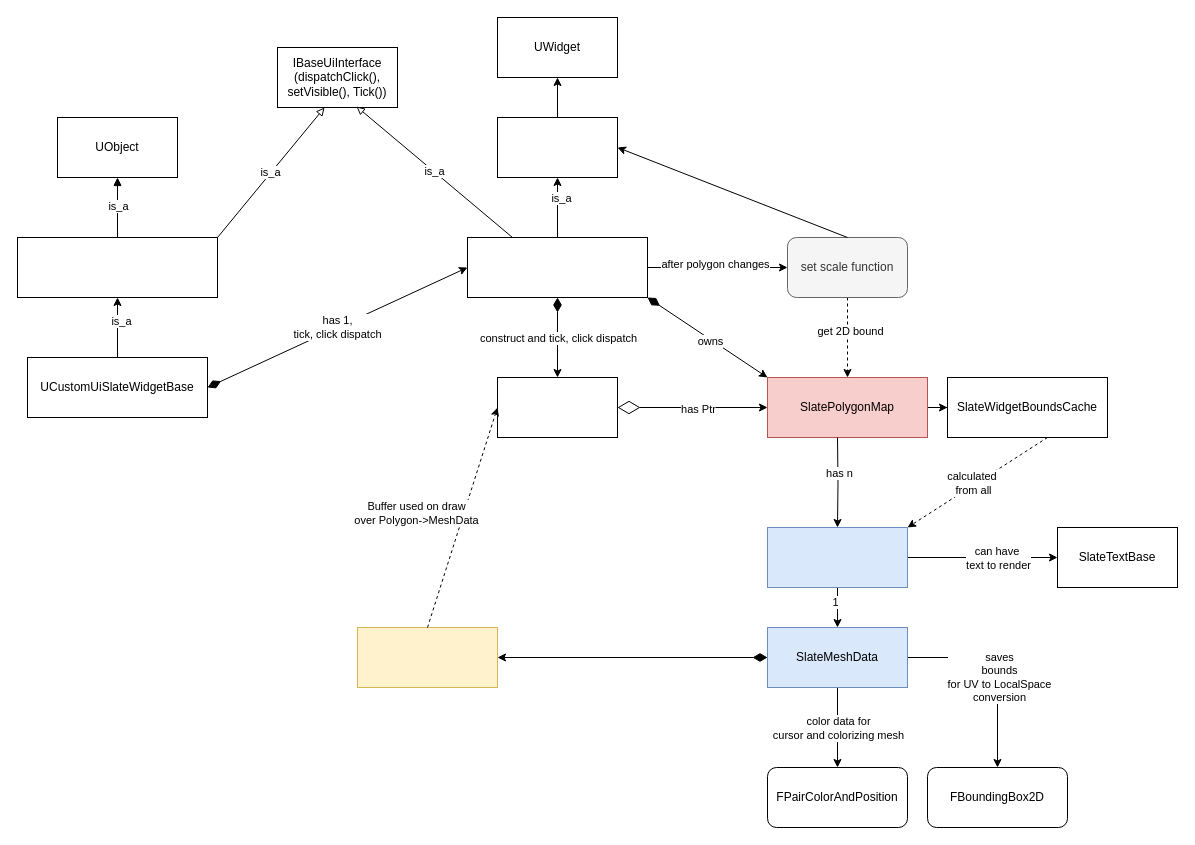
Some shapes in this 1195 by 845 pixel diagram are drawn without their labels. The shapes that lost their labels are listed below. From the top down, each one's centre as x and y in pixels, then its label:
point (557, 147): USizeBox
point (117, 267): UcustomUiComponentBase (dispatchClick(), setVisible(), Tick())
point (557, 267): UWidgetSlateWrapperBase
point (557, 407): SSlateWidgetBase
point (837, 557): SlateMeshDataPolygon
point (427, 657): SlateVertexBufferCache
